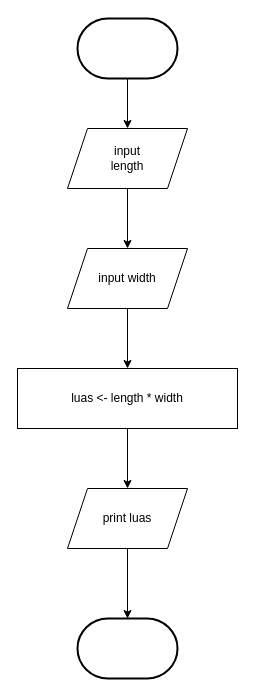
Image size: 255x696. Some labels were removed from this diagram. Each missing label, with the box of its shape:
Mulai: (76, 17, 178, 79)
selesai: (76, 617, 178, 679)
